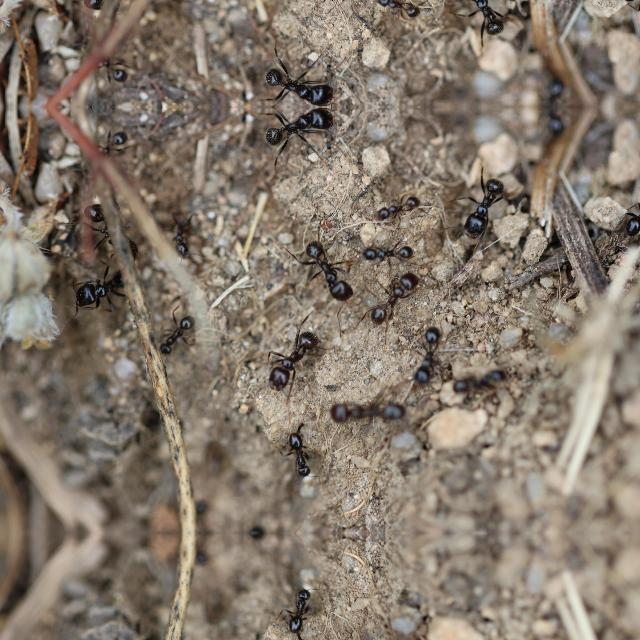Messor: (255, 42, 352, 104), (255, 109, 352, 170), (296, 228, 366, 310), (362, 262, 424, 344), (453, 173, 513, 253), (74, 202, 150, 264), (264, 329, 330, 396), (66, 256, 146, 310), (73, 123, 133, 185), (73, 27, 133, 89), (440, 355, 516, 403), (324, 392, 412, 431), (274, 420, 316, 480), (414, 318, 450, 388), (453, 0, 513, 39), (274, 585, 315, 640), (162, 304, 202, 358), (364, 191, 426, 225), (167, 198, 201, 260), (354, 240, 424, 268), (529, 106, 575, 144), (529, 68, 575, 106), (364, 0, 425, 21), (619, 191, 639, 239), (167, 0, 201, 14), (619, 0, 639, 21)
